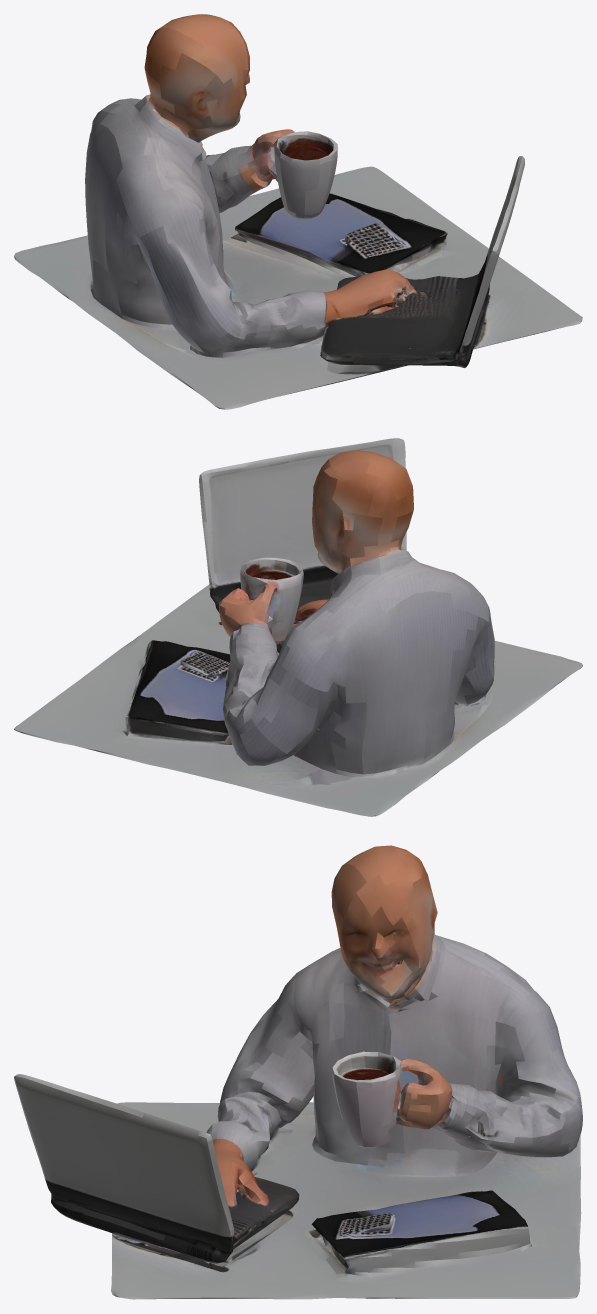
Rendered from Meme2_3d_reducedver.fbx.
3 renders of one model, top to bottom at view 1: azimuth 30°, elevation 25°; view 2: azimuth 150°, elevation 25°; view 3: azimuth 270°, elevation 25°, orthographic. The views are drawn at different scales.
Visible parts, largest first — view 1: node_490c0481_da62_4333_8df4_4a686c9ba6ba_mesh0; view 2: node_490c0481_da62_4333_8df4_4a686c9ba6ba_mesh0; view 3: node_490c0481_da62_4333_8df4_4a686c9ba6ba_mesh0.
Part boxes in pixels (box(x1,y1,x2,y2)): node_490c0481_da62_4333_8df4_4a686c9ba6ba_mesh0: box(14, 14, 582, 409); node_490c0481_da62_4333_8df4_4a686c9ba6ba_mesh0: box(14, 438, 582, 816); node_490c0481_da62_4333_8df4_4a686c9ba6ba_mesh0: box(14, 845, 582, 1299).
Bounding box in the file's own units: 81.74 × 59.45 × 99.93.
Materials: 1 (1 with a texture image).
